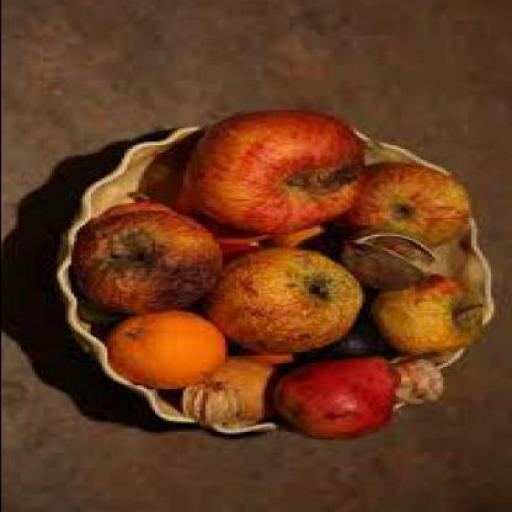biodegradable: (185, 112, 369, 233), (201, 252, 366, 358), (70, 213, 227, 316), (95, 202, 269, 274), (342, 162, 476, 249), (277, 359, 402, 443), (106, 314, 230, 394), (372, 274, 484, 360), (182, 352, 280, 430), (302, 294, 398, 363), (341, 235, 439, 294), (389, 353, 450, 410), (79, 300, 123, 326)
